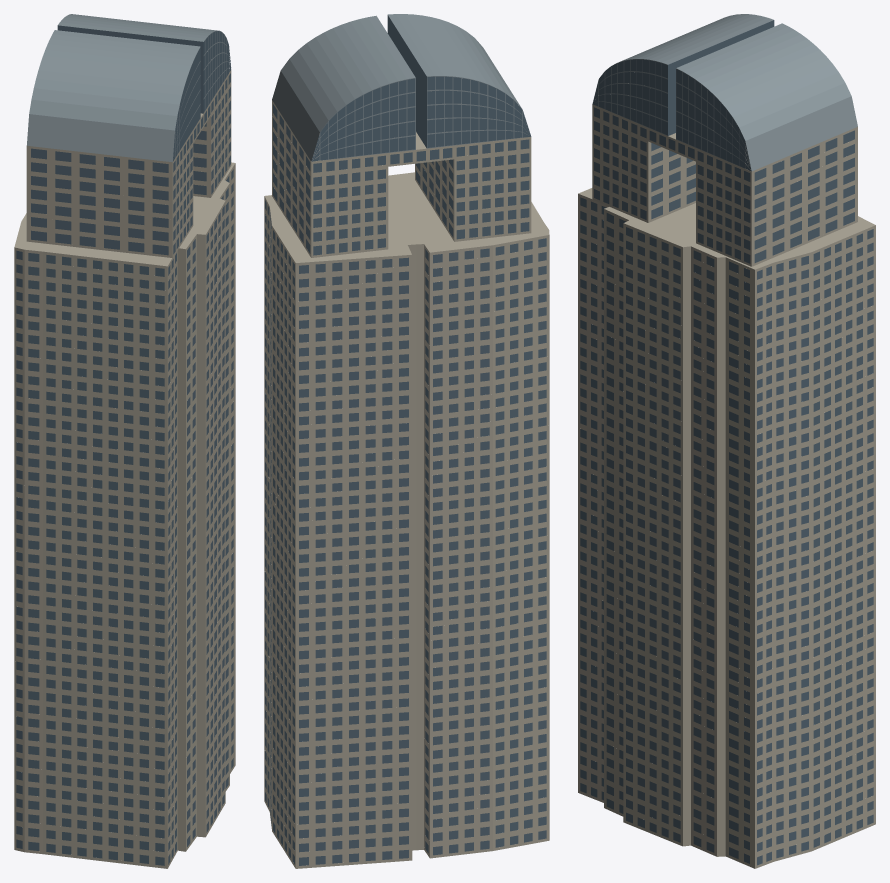
File: jpmorgan-chase-tower-dallas-near.glb
3 views of the same model, side by side, from view 1: azimuth 30°, elevation 25°; view 2: azimuth 150°, elevation 25°; view 3: azimuth 270°, elevation 25° (orthographic).
Parts seen in each view (by area): view 1: jpmorgan-chase-tower-dallas-0-stone, jpmorgan-chase-tower-dallas-0-glass, jpmorgan-chase-tower-dallas-0-roof; view 2: jpmorgan-chase-tower-dallas-0-stone, jpmorgan-chase-tower-dallas-0-glass, jpmorgan-chase-tower-dallas-0-roof; view 3: jpmorgan-chase-tower-dallas-0-stone, jpmorgan-chase-tower-dallas-0-glass, jpmorgan-chase-tower-dallas-0-roof.
Boxes of the visible parts, bbox=[...] form: jpmorgan-chase-tower-dallas-0-stone: bbox=[14, 70, 235, 868]; jpmorgan-chase-tower-dallas-0-glass: bbox=[16, 25, 233, 865]; jpmorgan-chase-tower-dallas-0-roof: bbox=[27, 14, 229, 162]; jpmorgan-chase-tower-dallas-0-stone: bbox=[264, 100, 549, 868]; jpmorgan-chase-tower-dallas-0-glass: bbox=[265, 15, 546, 865]; jpmorgan-chase-tower-dallas-0-roof: bbox=[272, 14, 531, 161]; jpmorgan-chase-tower-dallas-0-stone: bbox=[578, 104, 875, 868]; jpmorgan-chase-tower-dallas-0-glass: bbox=[580, 20, 873, 865]; jpmorgan-chase-tower-dallas-0-roof: bbox=[595, 14, 857, 171].
Bounding box in the file's own units: 77.15 × 225 × 79.28.
